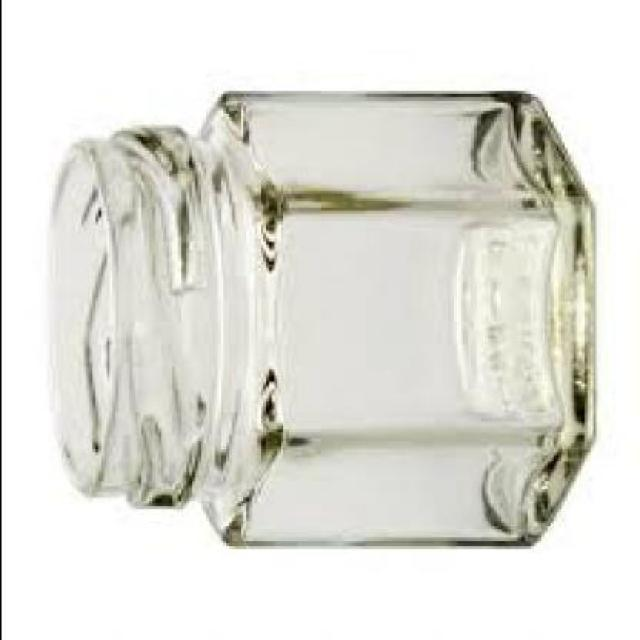GLASS: (42, 94, 592, 552)
